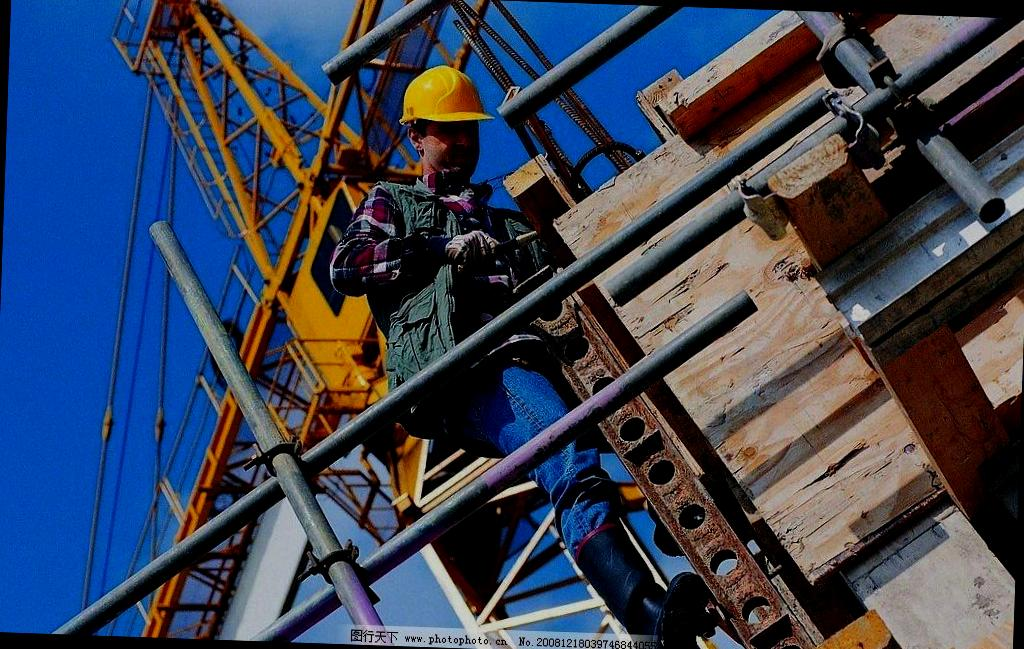helmet: (401, 61, 494, 128)
no_vest: (350, 170, 537, 328)
person: (318, 58, 727, 649)
